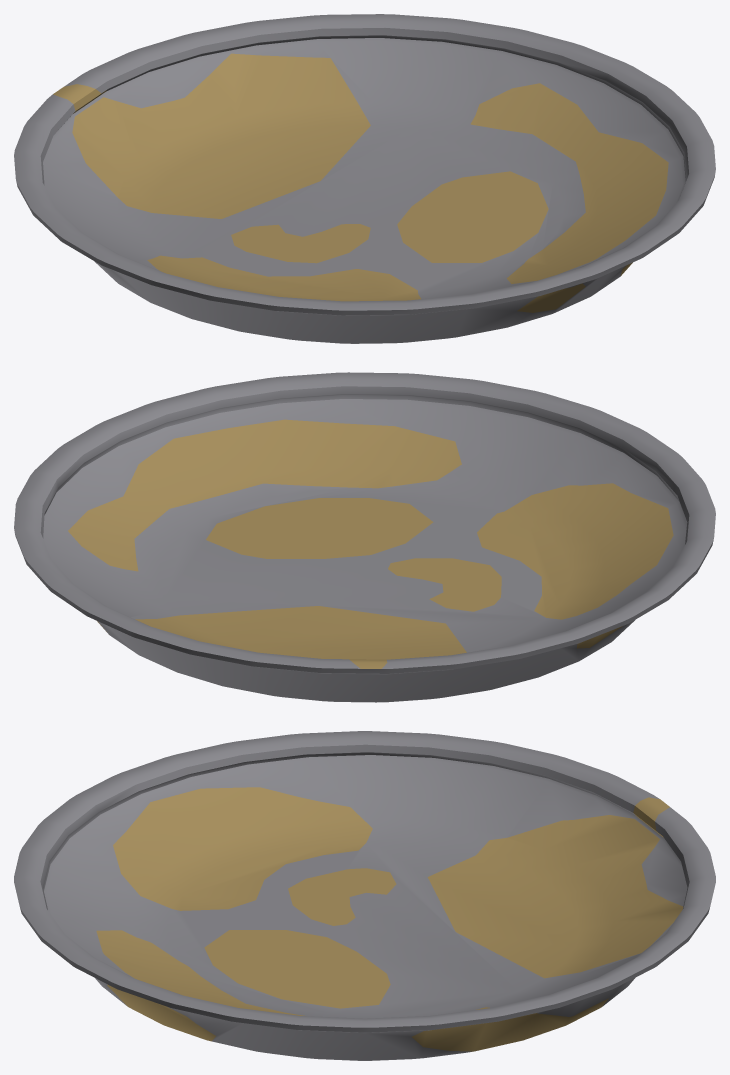
Rendered from Kirli tabak.fbx.
3 renders of one model, top to bottom at view 1: azimuth 30°, elevation 25°; view 2: azimuth 150°, elevation 25°; view 3: azimuth 270°, elevation 25°, orthographic.
Parts seen in each view (by area): view 1: Cylinder; view 2: Cylinder; view 3: Cylinder.
Boxes of the visible parts, bbox=[...] form: Cylinder: bbox=[14, 14, 715, 343]; Cylinder: bbox=[14, 372, 715, 702]; Cylinder: bbox=[14, 731, 715, 1060].
Size of the model in its own units: 27.83 by 2.97 by 27.83.
